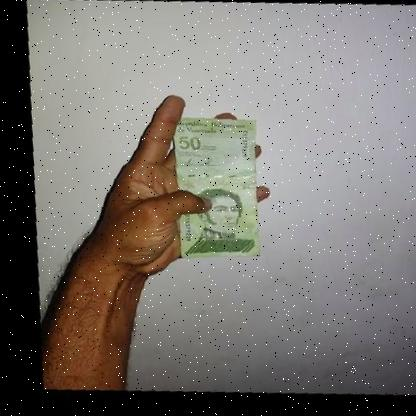fifty-front-vef: (163, 115, 265, 261)
